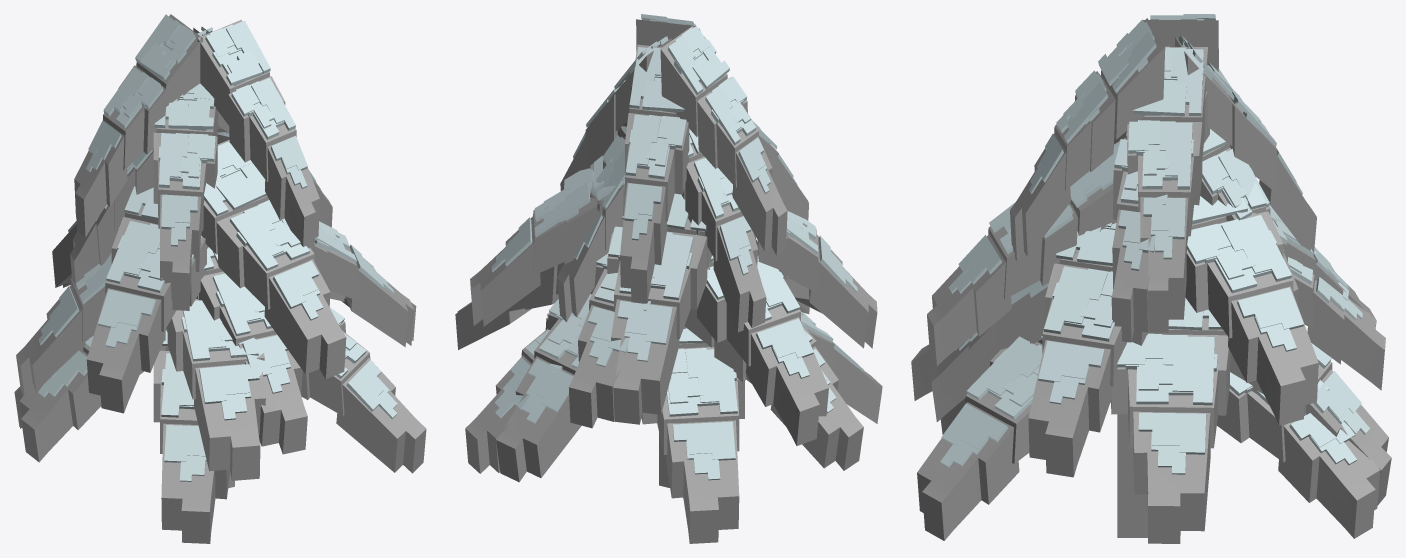
The model's file is Tree_Geo.fbx.
The picture shows the model from 3 angles, left to right: view 1: azimuth 30°, elevation 25°; view 2: azimuth 150°, elevation 25°; view 3: azimuth 270°, elevation 25°; orthographic projection. The views are drawn at different scales.
Parts seen in each view (by area): view 1: Tree; view 2: Tree; view 3: Tree.
Boxes of the visible parts, x1=… form: Tree: x1=14, y1=14, x2=426, y2=543; Tree: x1=455, y1=14, x2=882, y2=543; Tree: x1=911, y1=14, x2=1391, y2=543.
Bounding box in the file's own units: 912 × 1019 × 871.
